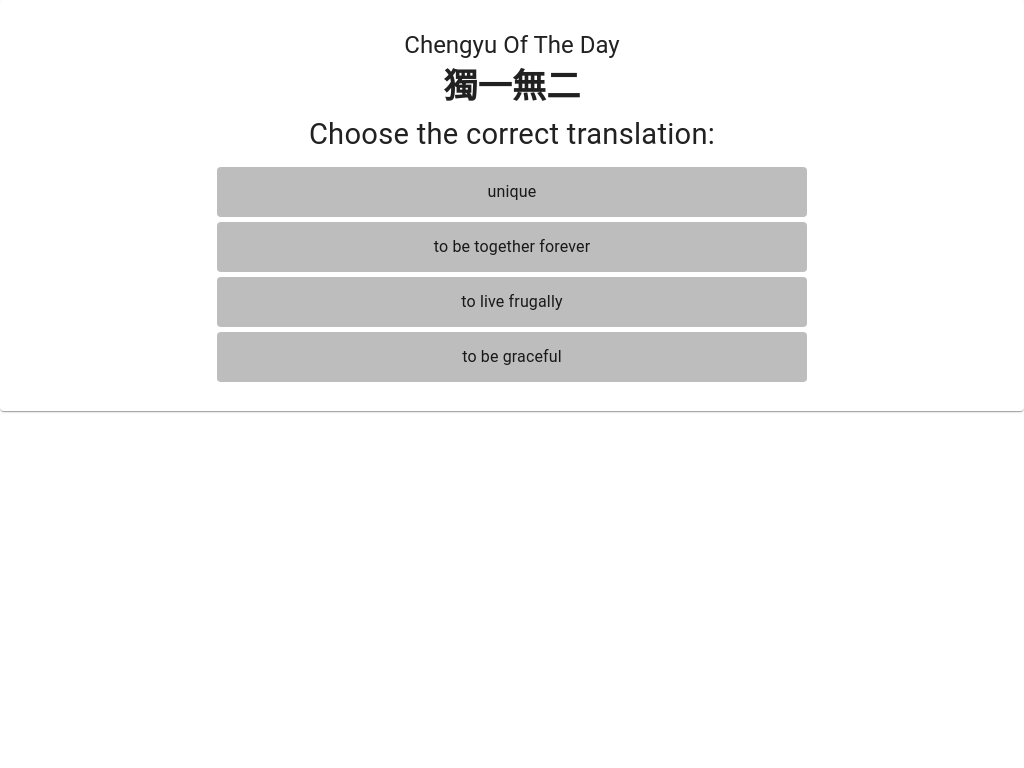
Scenario: Chengyu — answering correctly › marks the correct option with correct aria-label after clicking it
The image size is (1024, 768).
Click the button "unique" at (512, 192), box [217,167,807,217]
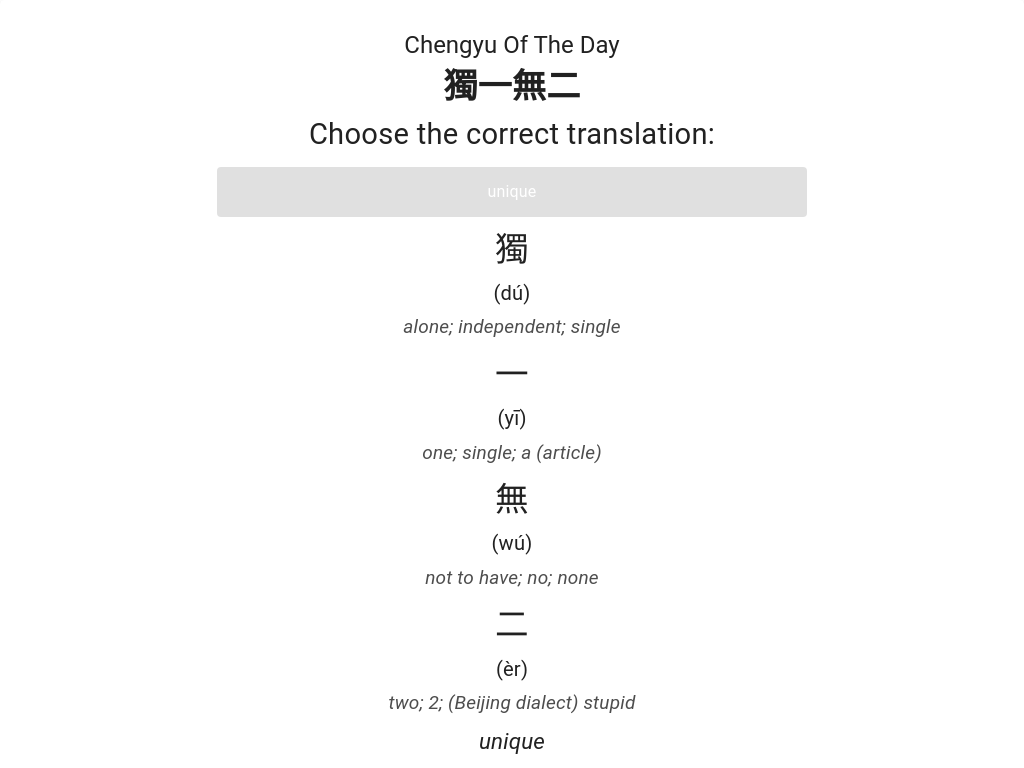
Result: the button "unique" is shown at [217,167,807,217]
